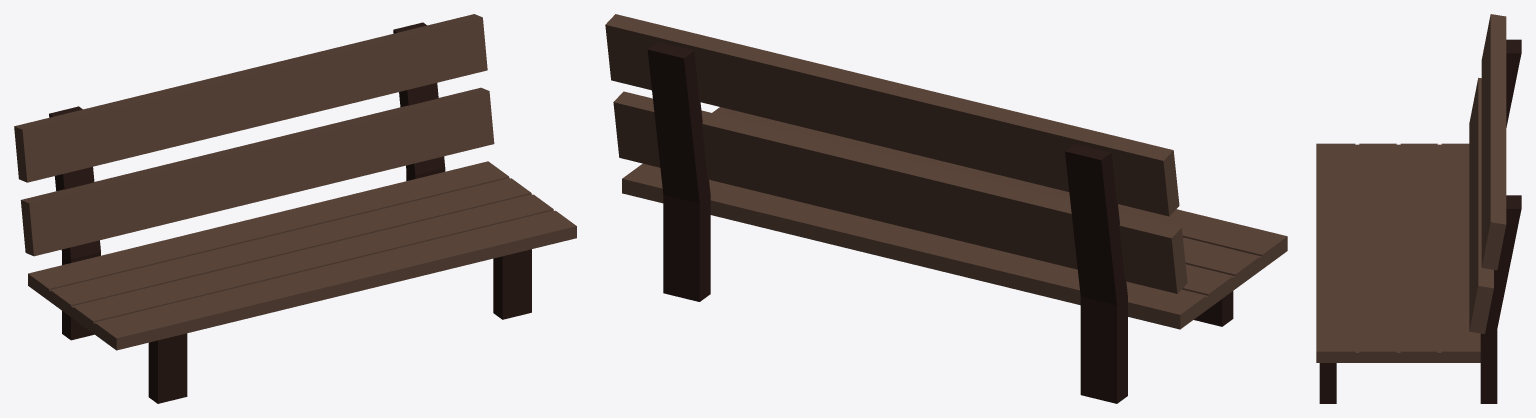
File: bench.fbx
3 views of the same model, side by side, from view 1: azimuth 30°, elevation 25°; view 2: azimuth 150°, elevation 25°; view 3: azimuth 270°, elevation 25° (orthographic). The views are drawn at different scales.
Parts seen in each view (by area): view 1: Cube; view 2: Cube; view 3: Cube.
Part boxes in pixels (bbox=[...]): Cube: bbox=[14, 14, 576, 403]; Cube: bbox=[605, 14, 1287, 403]; Cube: bbox=[1316, 14, 1521, 403].
Bounding box in the file's own units: 1440 × 649 × 600.
